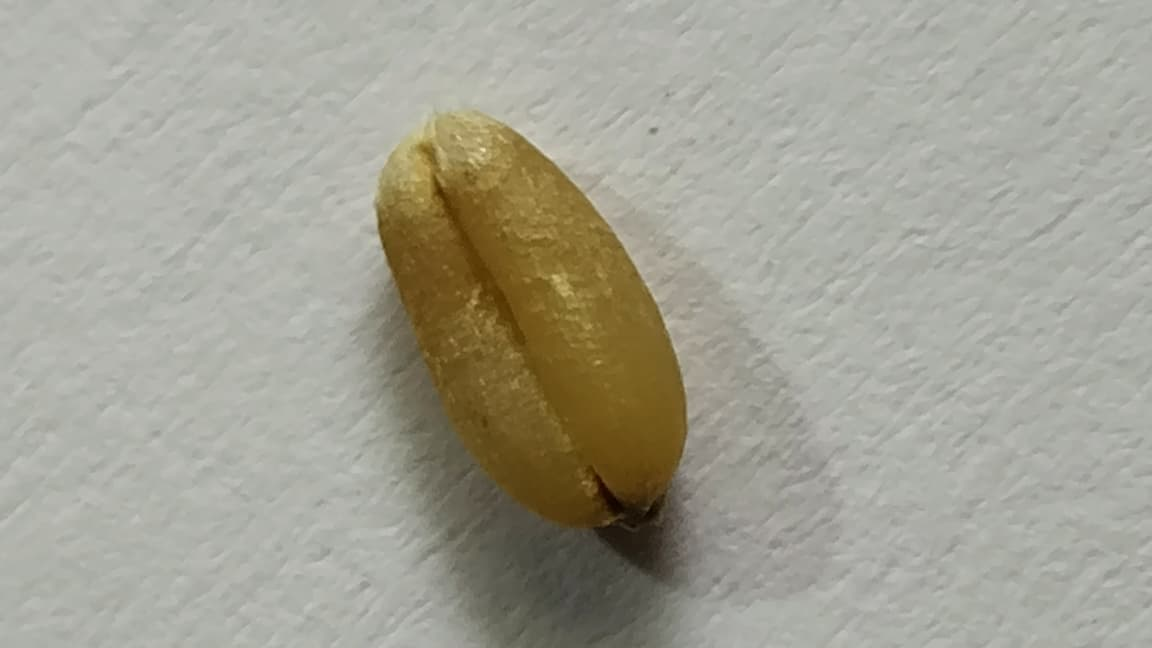healthy: (376, 112, 685, 526)
